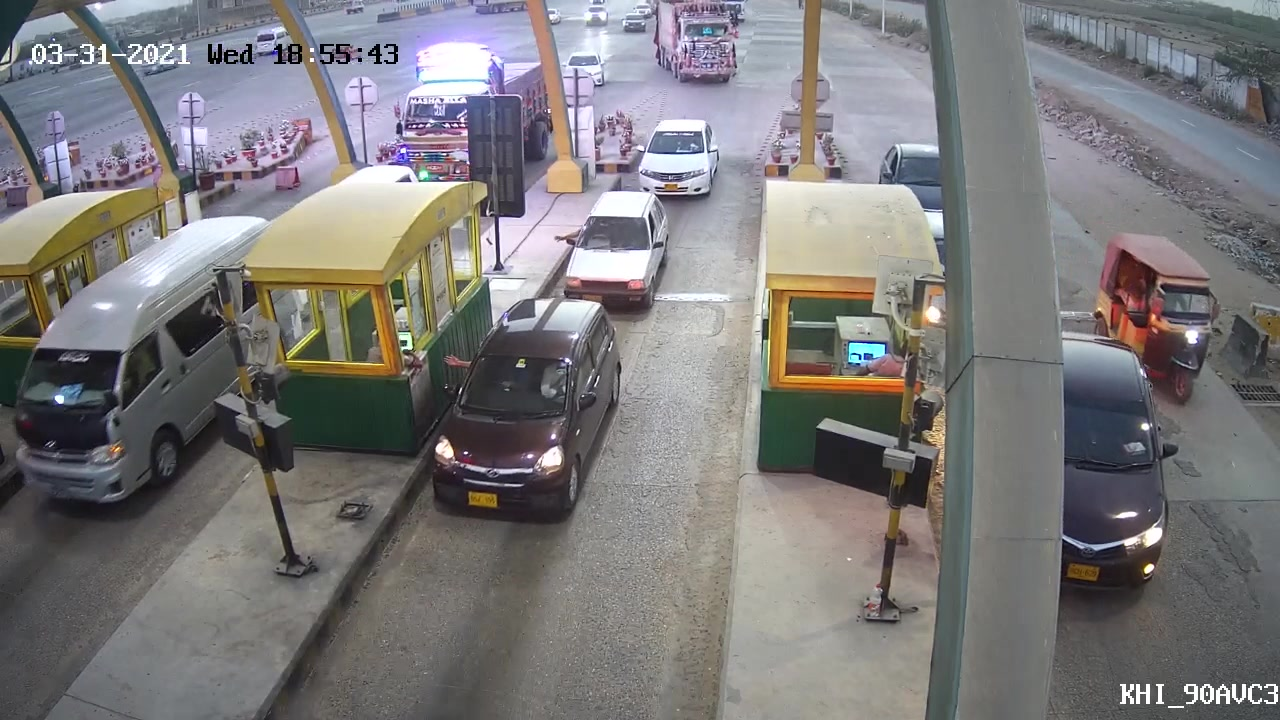F1: (433, 294, 624, 512)
